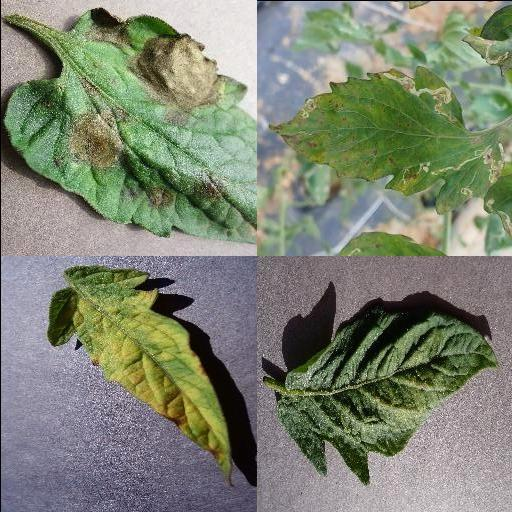Late Blight: (0, 8, 256, 246)
Leaf Miner: (266, 65, 505, 215)
Leaf Mold: (46, 267, 232, 484)
Spider Mites: (276, 307, 502, 486)
